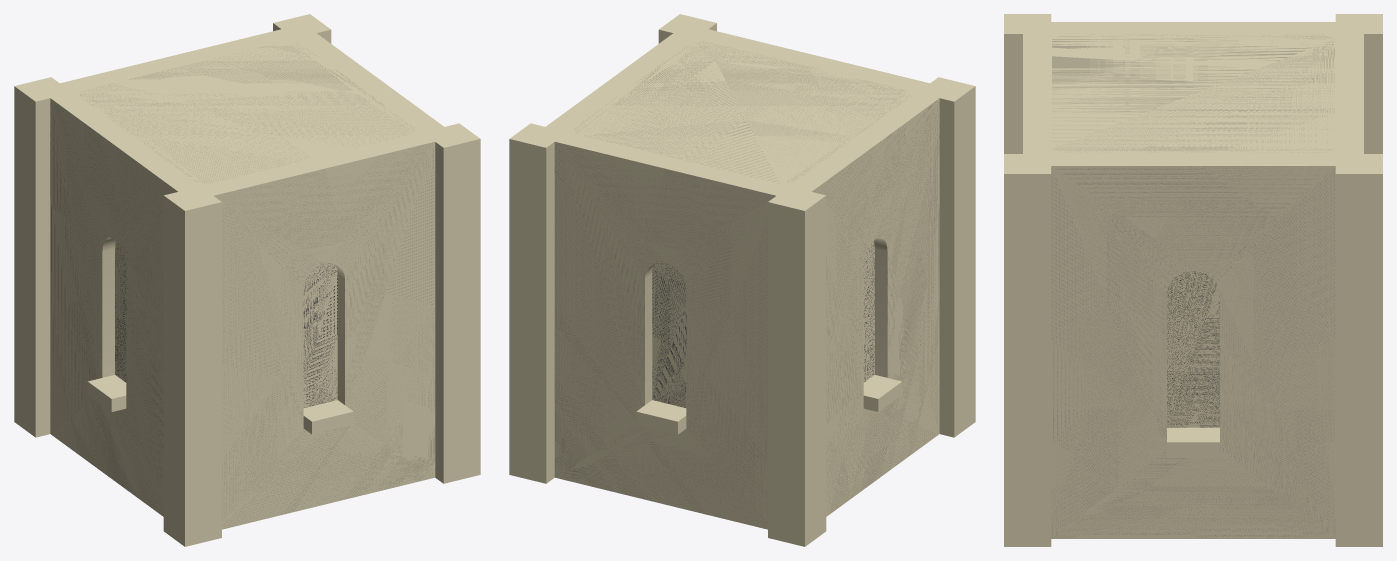
The model's file is towerSquareMidWindows.obj.
3 renders of one model, left to right at view 1: azimuth 30°, elevation 25°; view 2: azimuth 150°, elevation 25°; view 3: azimuth 270°, elevation 25°, orthographic. The views are drawn at different scales.
Visible parts, largest first — view 1: towerSquareMidWindows; view 2: towerSquareMidWindows; view 3: towerSquareMidWindows.
Part boxes in pixels (x1,y1,x2,y2): towerSquareMidWindows: (14,14,480,546); towerSquareMidWindows: (509,14,975,546); towerSquareMidWindows: (1004,14,1382,546).
Size of the model in its own units: 9.3 by 10.1 by 9.3.
